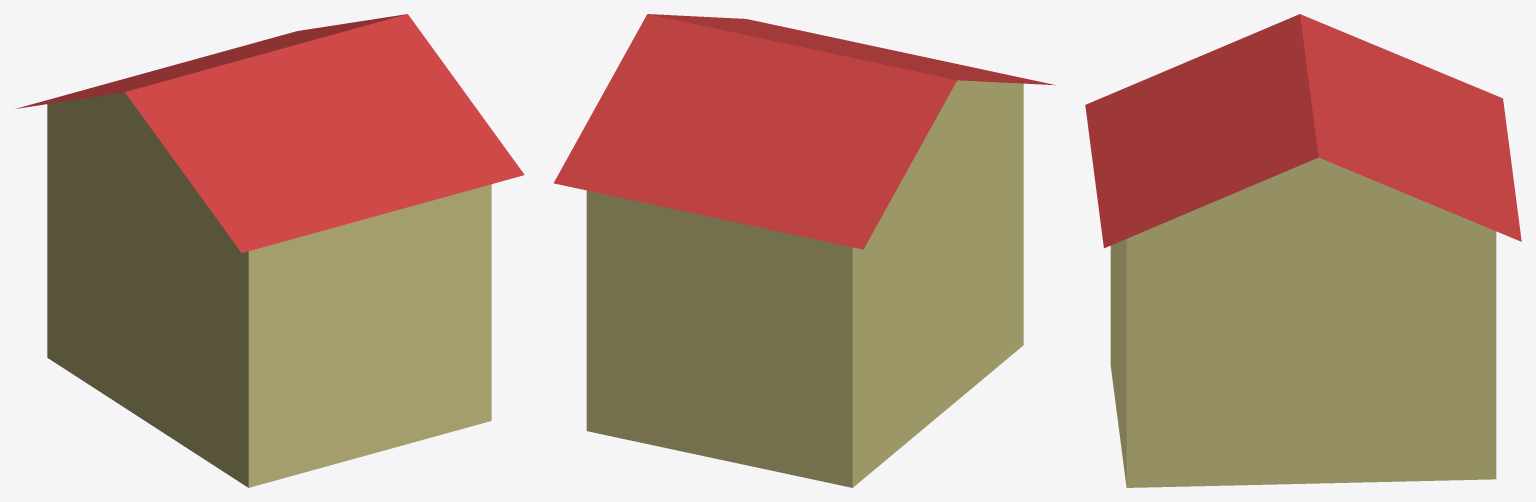
The picture shows the model from 3 angles, left to right: view 1: azimuth 30°, elevation 25°; view 2: azimuth 150°, elevation 25°; view 3: azimuth 270°, elevation 25°; orthographic projection. The views are drawn at different scales.
Parts seen in each view (by area): view 1: group_5, group_3, group_4; view 2: group_5, group_3, group_4; view 3: group_5, group_3, group_4.
Boxes of the visible parts, bbox=[...] form: group_5: bbox=[47, 92, 491, 487]; group_3: bbox=[49, 14, 524, 252]; group_4: bbox=[16, 14, 405, 252]; group_5: bbox=[586, 80, 1023, 487]; group_3: bbox=[586, 14, 1049, 244]; group_4: bbox=[554, 14, 1055, 249]; group_5: bbox=[1110, 157, 1496, 487]; group_3: bbox=[1085, 14, 1496, 248]; group_4: bbox=[1085, 14, 1521, 241].
Size of the model in its own units: 11.31 by 13.62 by 11.57.
